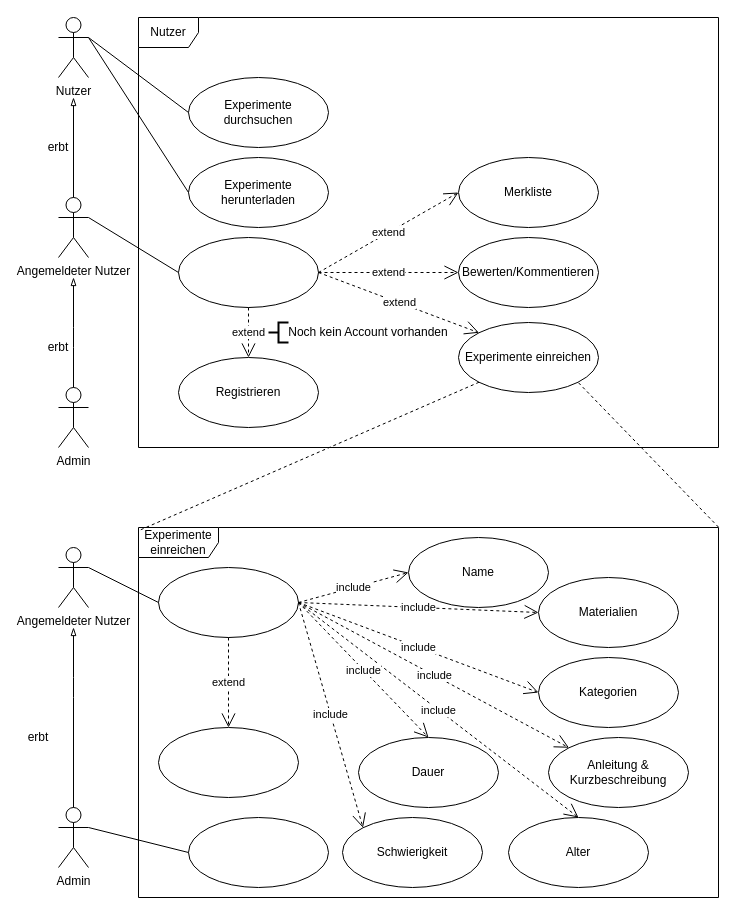
Image size: 737x915. Some labels were removed from this diagram. Each missing label, with the centre of its shape:
Anmelden: pixel 248 272
Antrag bestätigen/ablehnen /bearbeiten: pixel 258 852
Formular ausfüllen: pixel 228 602
Video/Bild: pixel 228 762
